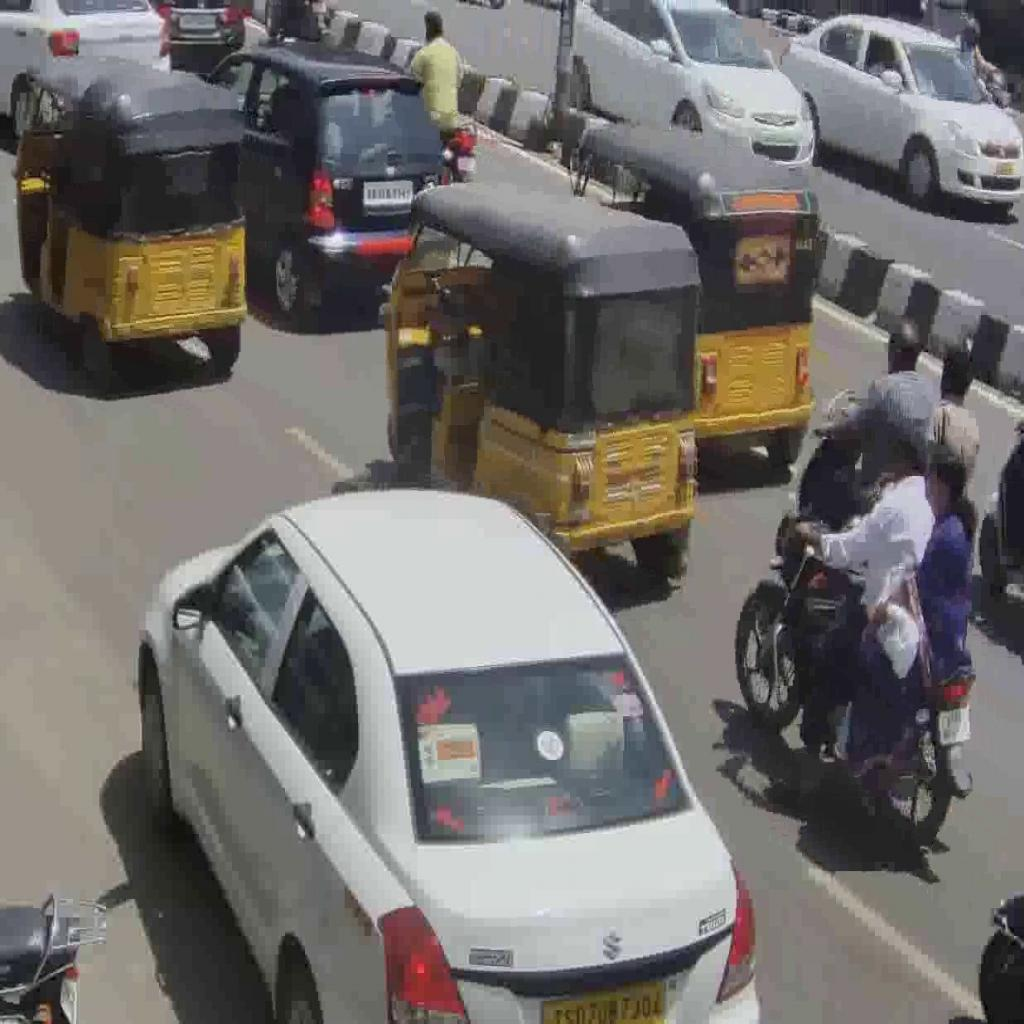helmet: (733, 506, 978, 850), (774, 384, 916, 564)
